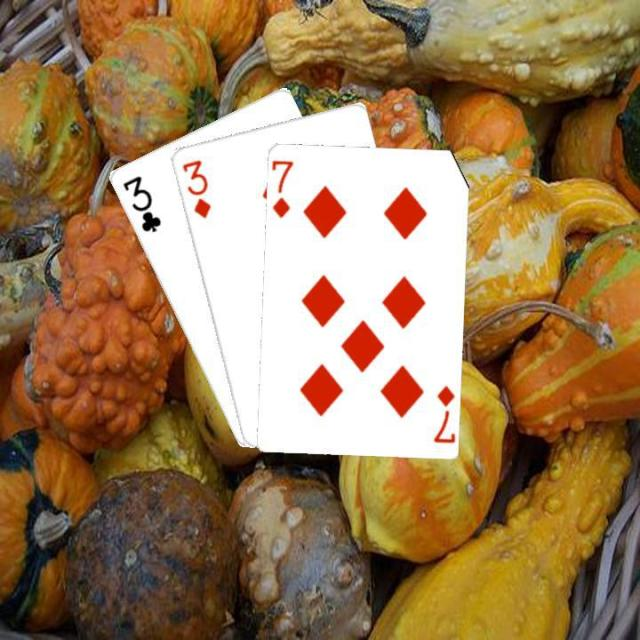3C: (118, 172, 163, 234)
3D: (178, 156, 212, 220)
7D: (269, 156, 295, 220), (429, 380, 455, 444)
